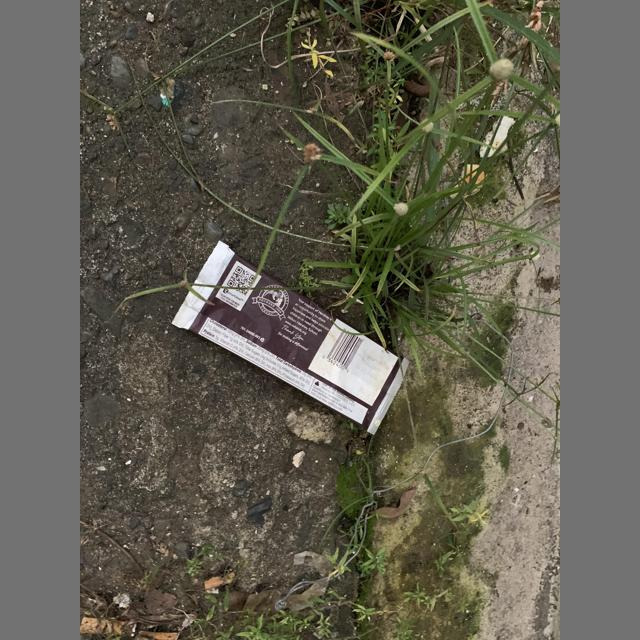litter: (274, 308, 514, 612), (171, 241, 409, 435), (241, 550, 333, 615), (80, 617, 136, 637), (205, 571, 234, 590), (135, 630, 180, 640), (161, 94, 172, 107)
